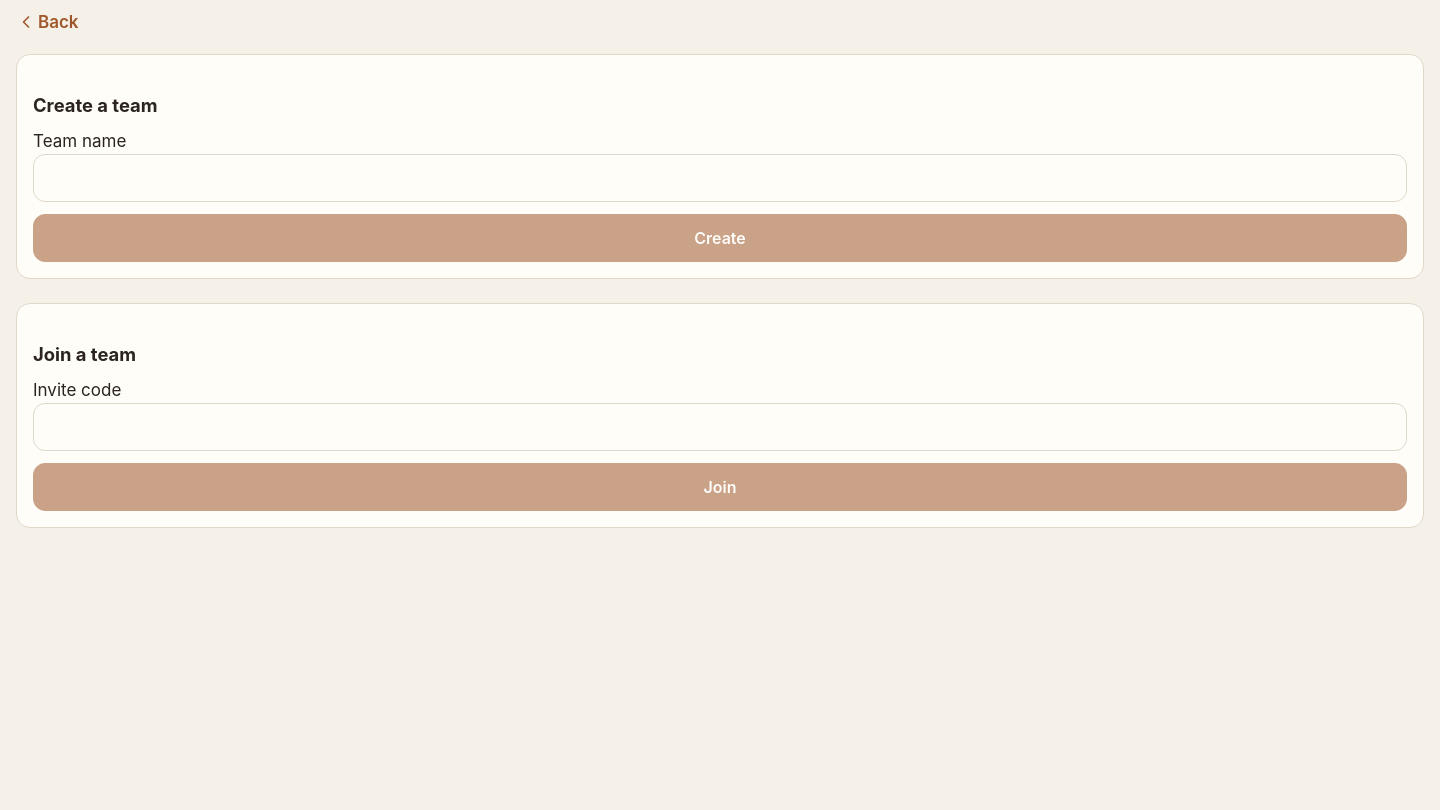
Test: CreateJoinPage › creating a team shows its invite code
The width and height of the screenshot is (1440, 810).
Type " Farm " into the field labelled "Team name". click: (720, 178)
box: [33,154,1407,202]
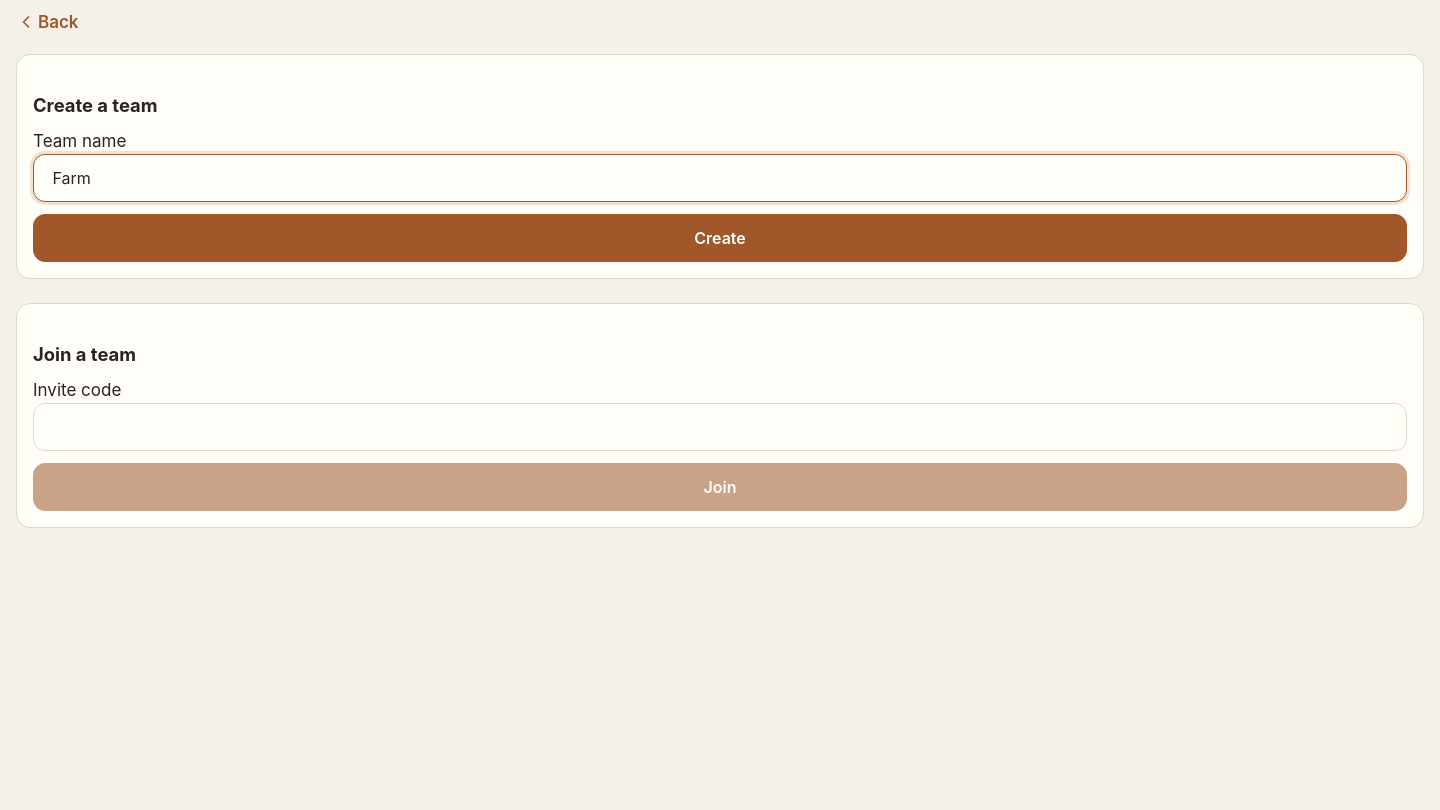
Click the button "Create". click: (720, 238)
box: [33,214,1407,262]
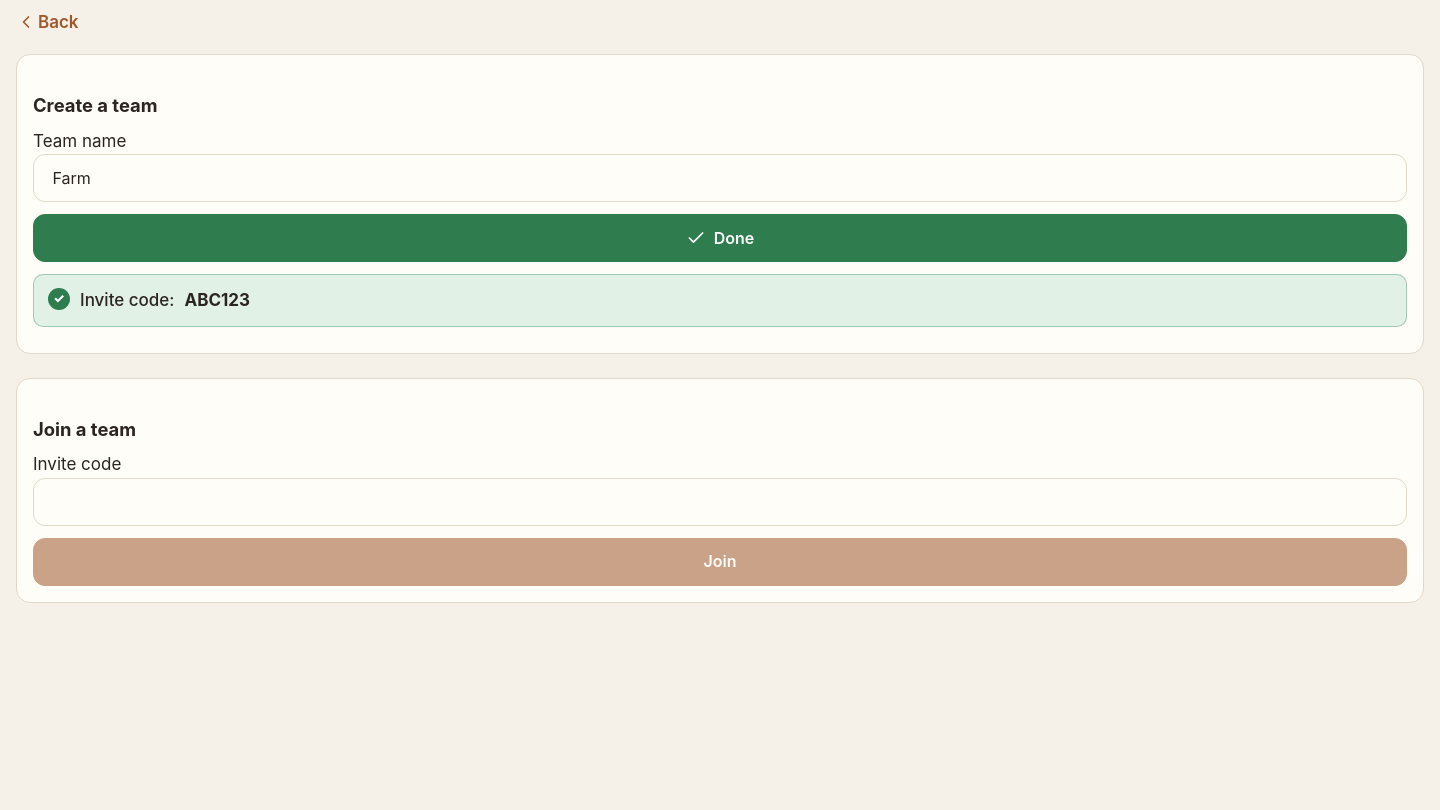
expect the text "ABC123" is shown: met, box [184,287,250,314]
